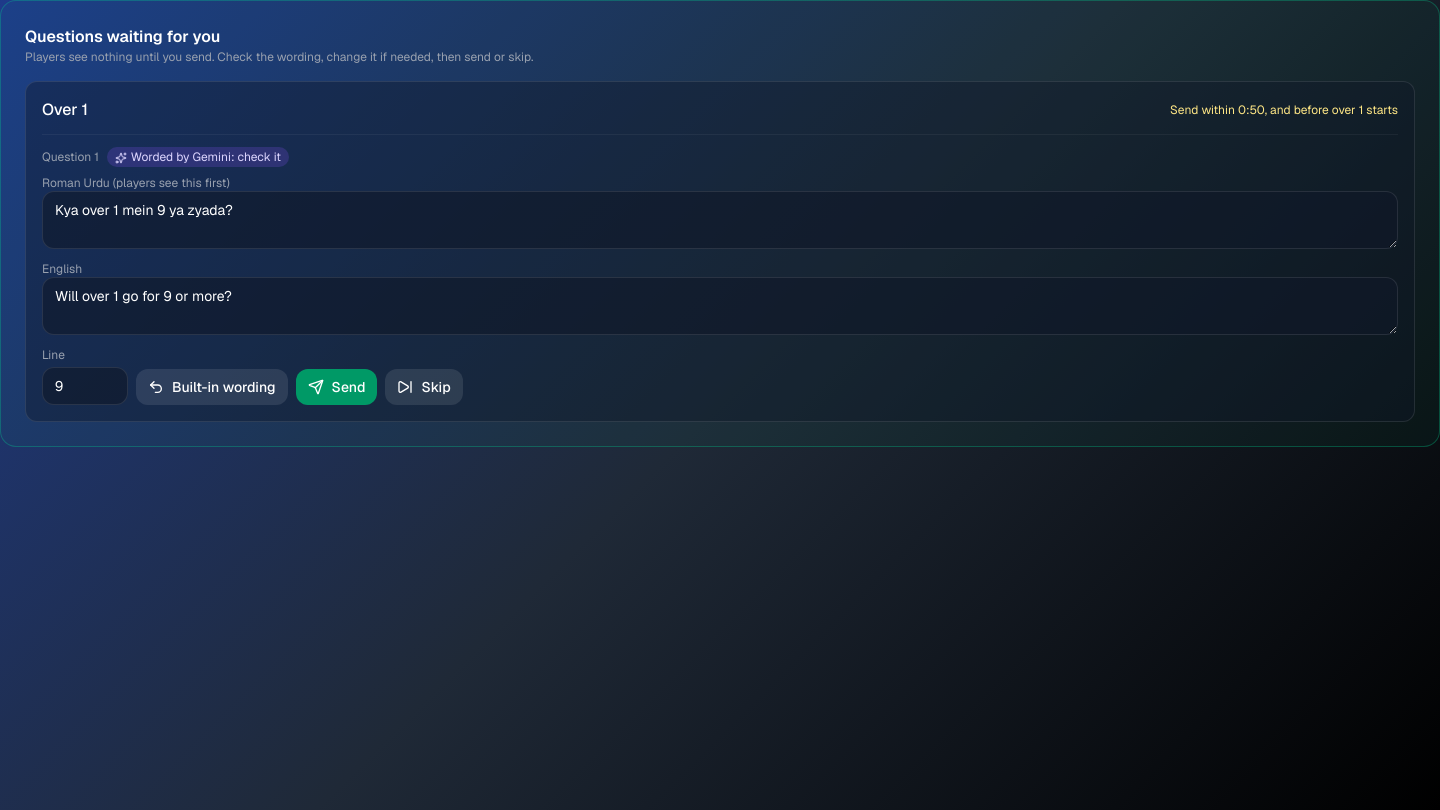
QuestionReview › rewords from the text before the line box was touched, so typing 10 never leaves a 1 behind
Replace the text in the number field with "1" at (85, 386), box x1=42 y1=367 x2=128 y2=405
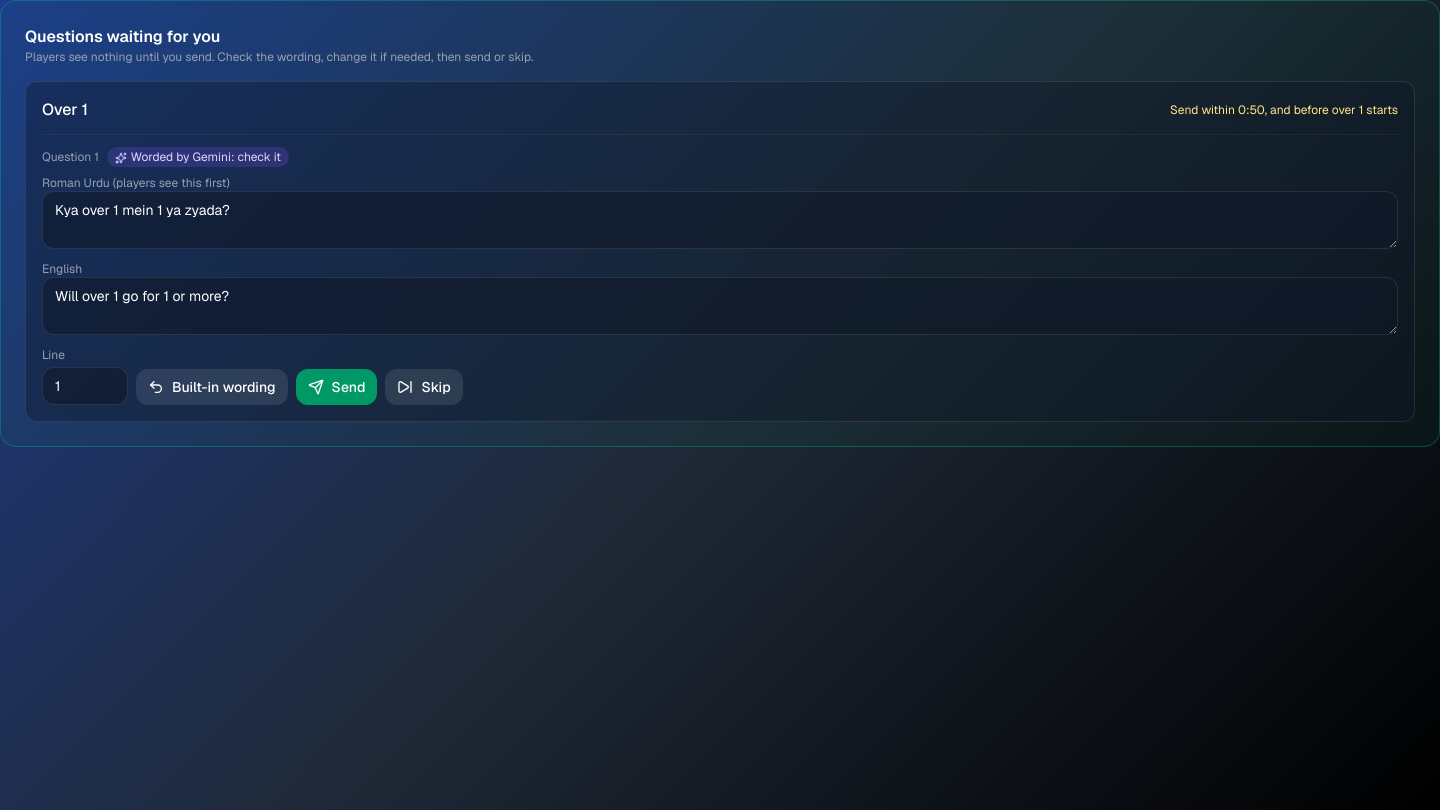
Replace the text in the number field with "10" at (85, 386), box x1=42 y1=367 x2=128 y2=405
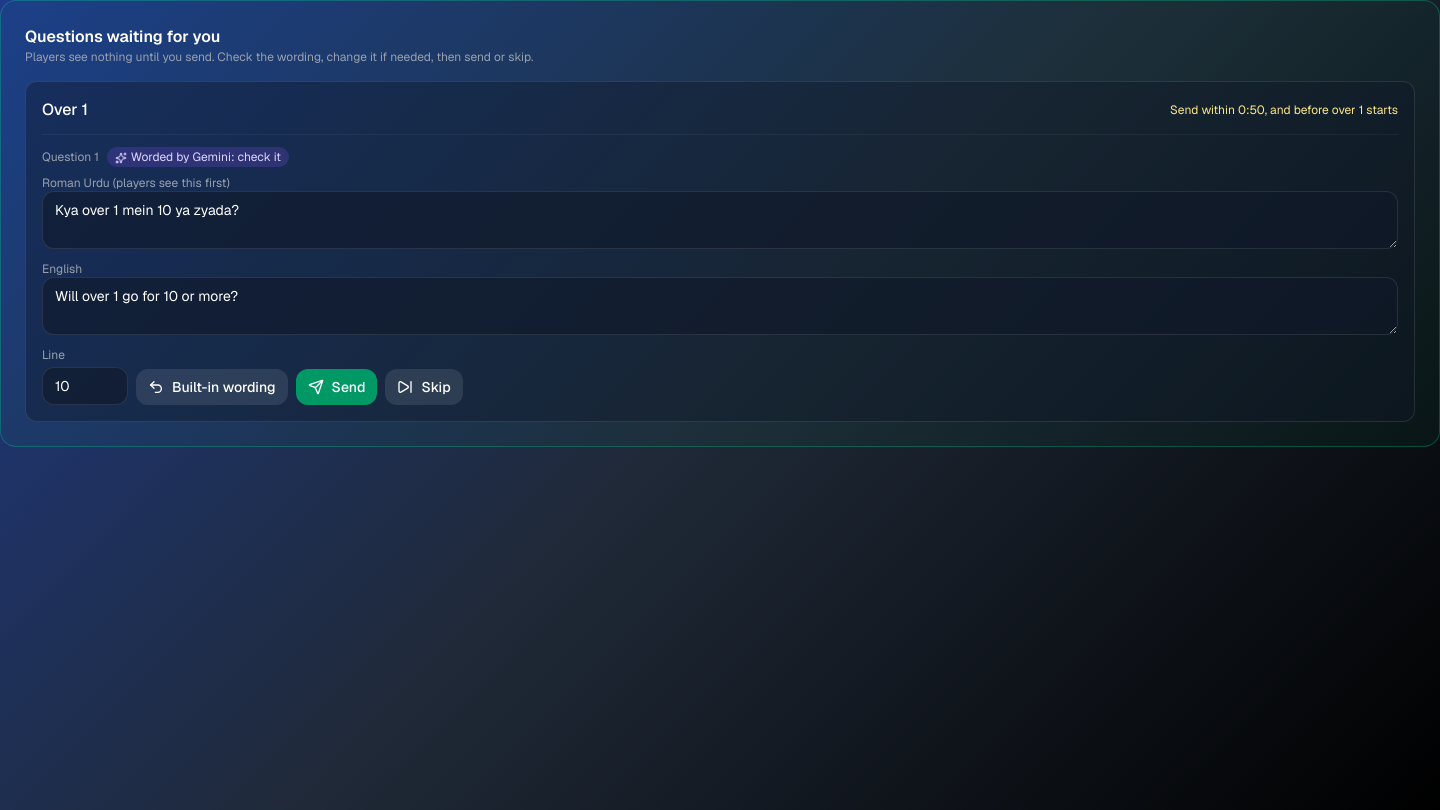
Check: the text box labelled "English" holds "Will over 1 go for 10 or more?"
Check: the text box labelled "Roman Urdu (players see this first)" holds "Kya over 1 mein 10 ya zyada?", box x1=42 y1=191 x2=1398 y2=249
A hand edit starts a new base: the next line change rewords the edited text
Replace the text in the text box labelled "English" with "Over 1: 10 or more for Lahore?" at (720, 306), box x1=42 y1=277 x2=1398 y2=335
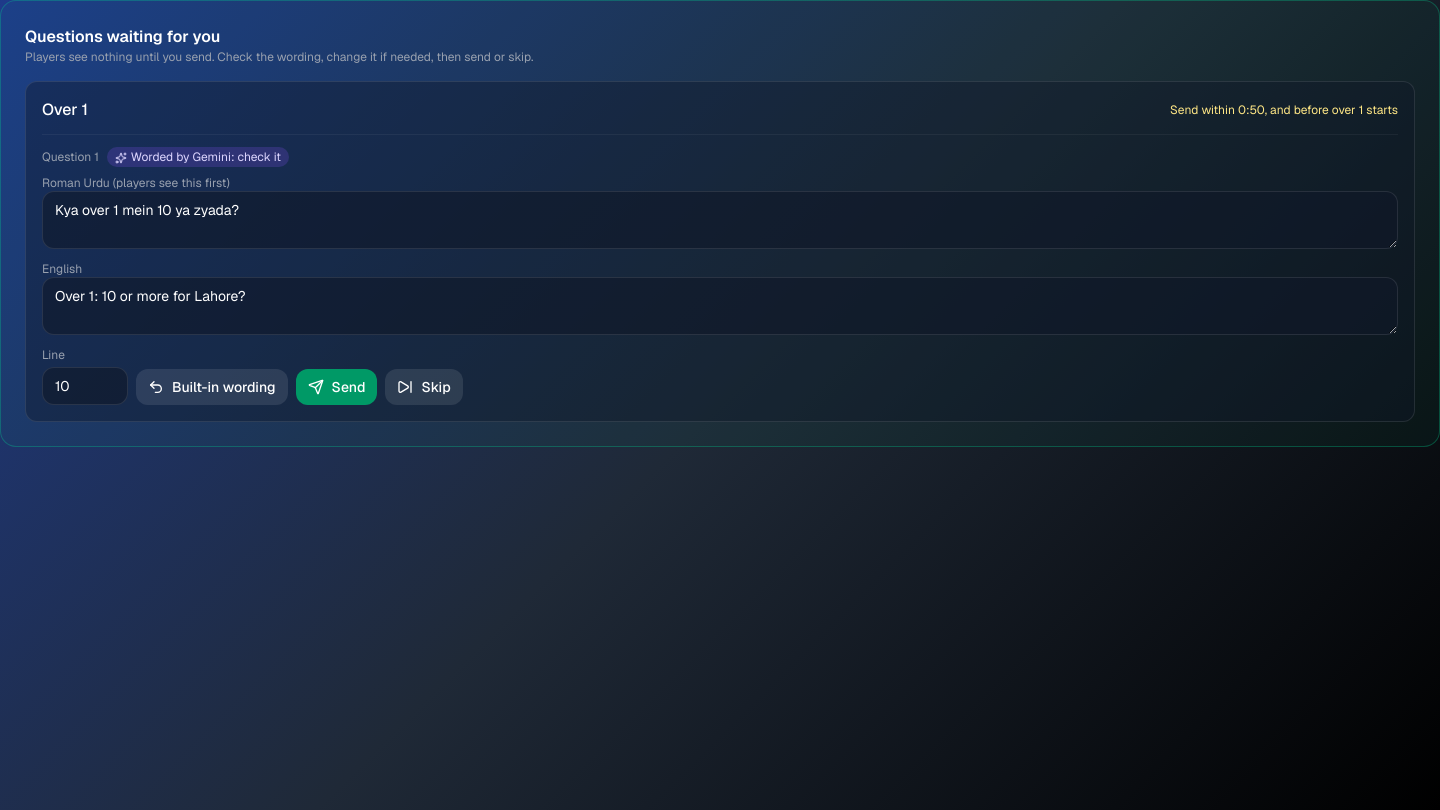
Replace the text in the number field with "12" at (85, 386), box x1=42 y1=367 x2=128 y2=405
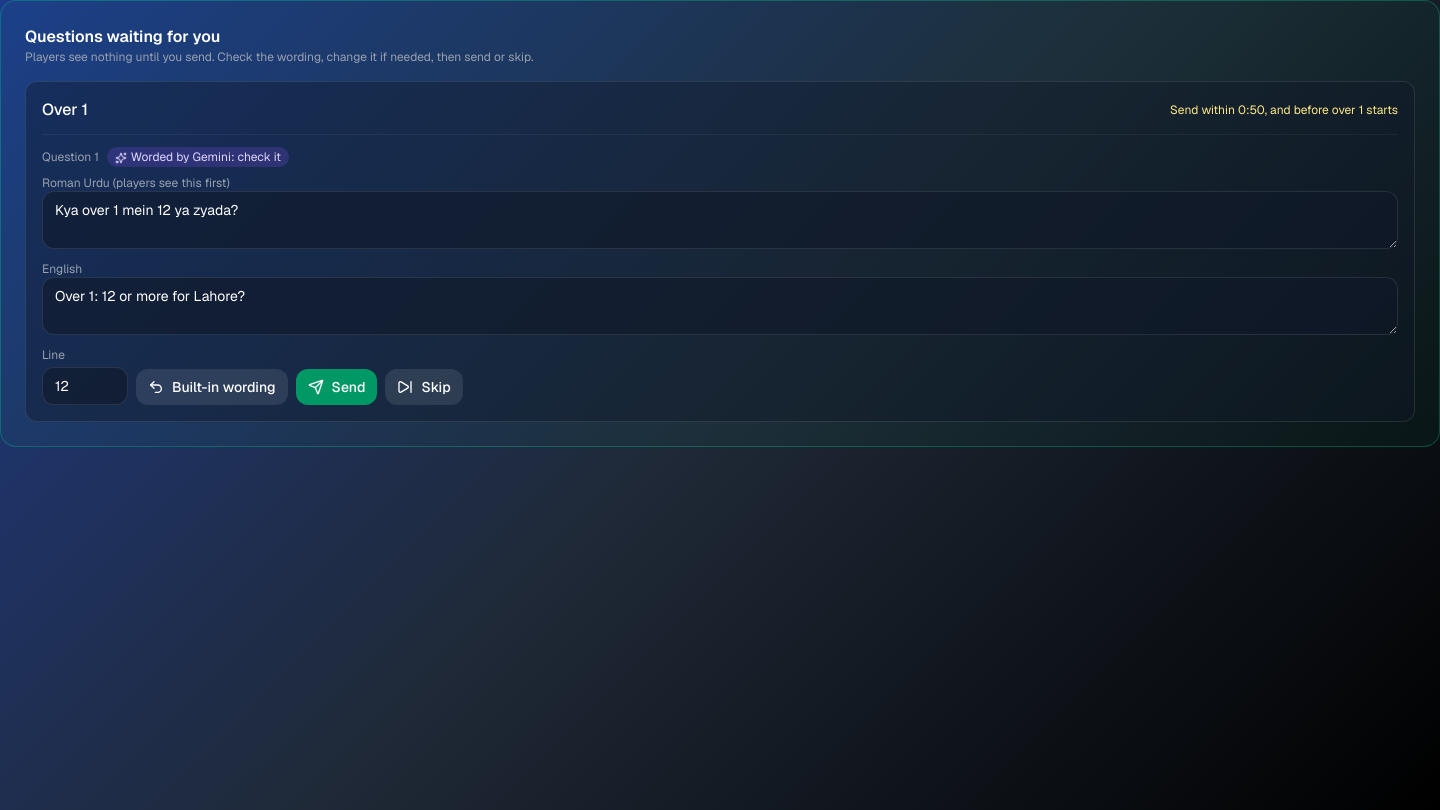
Check: the text box labelled "English" holds "Over 1: 12 or more for Lahore?", box x1=42 y1=277 x2=1398 y2=335
